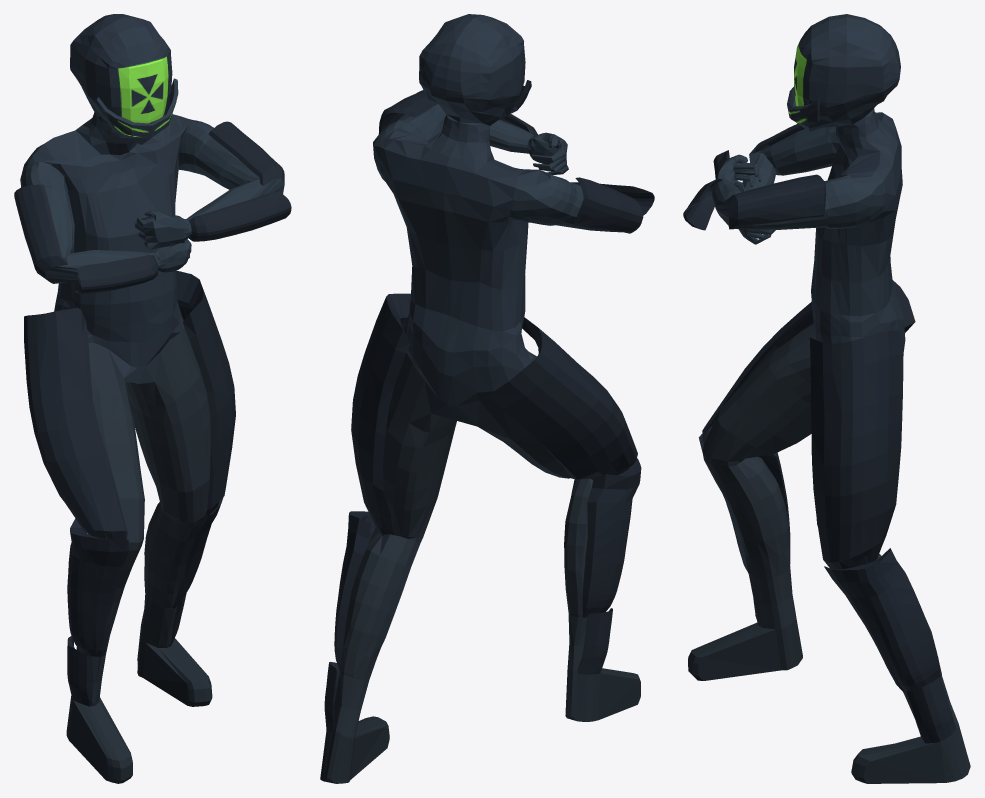
The model's file is Bastion_WF_000019.obj.
3 views of the same model, side by side, from view 1: azimuth 30°, elevation 25°; view 2: azimuth 150°, elevation 25°; view 3: azimuth 270°, elevation 25° (orthographic). The views are drawn at different scales.
Parts seen in each view (by area): view 1: Cube.002; view 2: Cube.002; view 3: Cube.002.
Part boxes in pixels (x1,y1,x2,y2): Cube.002: (14, 14, 291, 783); Cube.002: (320, 14, 654, 783); Cube.002: (683, 14, 970, 783).
Size of the model in its own units: 1.31 by 3.76 by 1.36.
